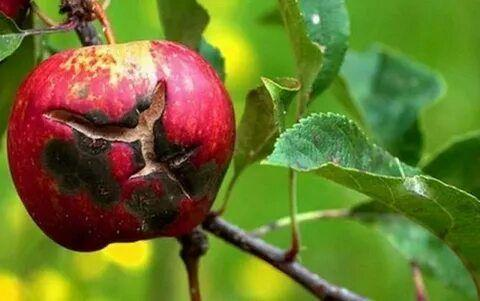Apple: (8, 40, 236, 253)
